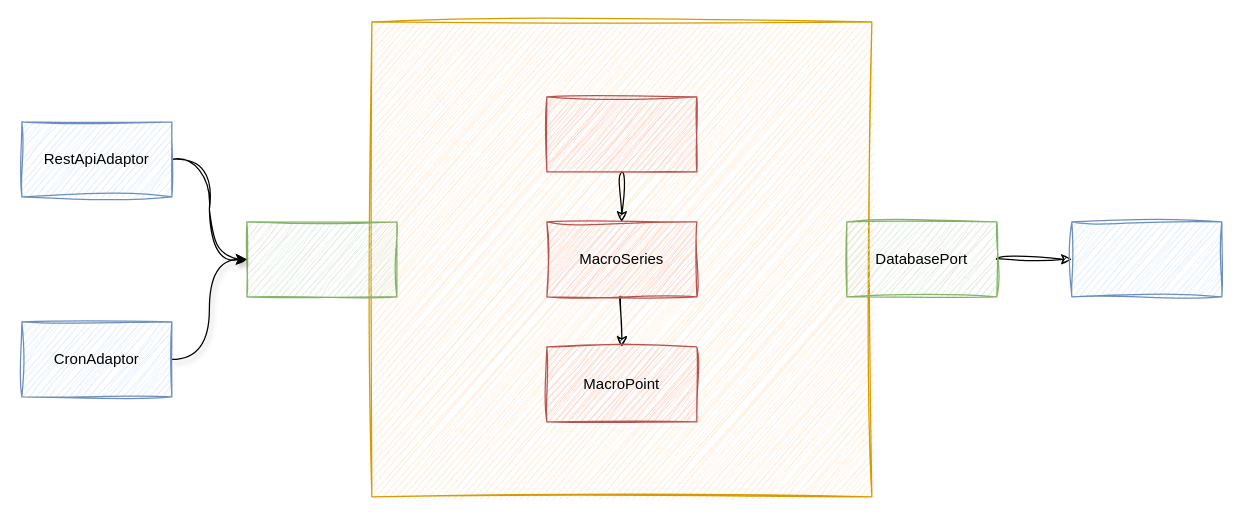
This 1244x519 diagram has some shape labels left out. Here are the shapes that lost their labels. From the top down, the centre of each, then its label:
pixel 621 134: AlignedBundle
pixel 321 259: DrivingPort
pixel 1146 259: PostgresAdapter
